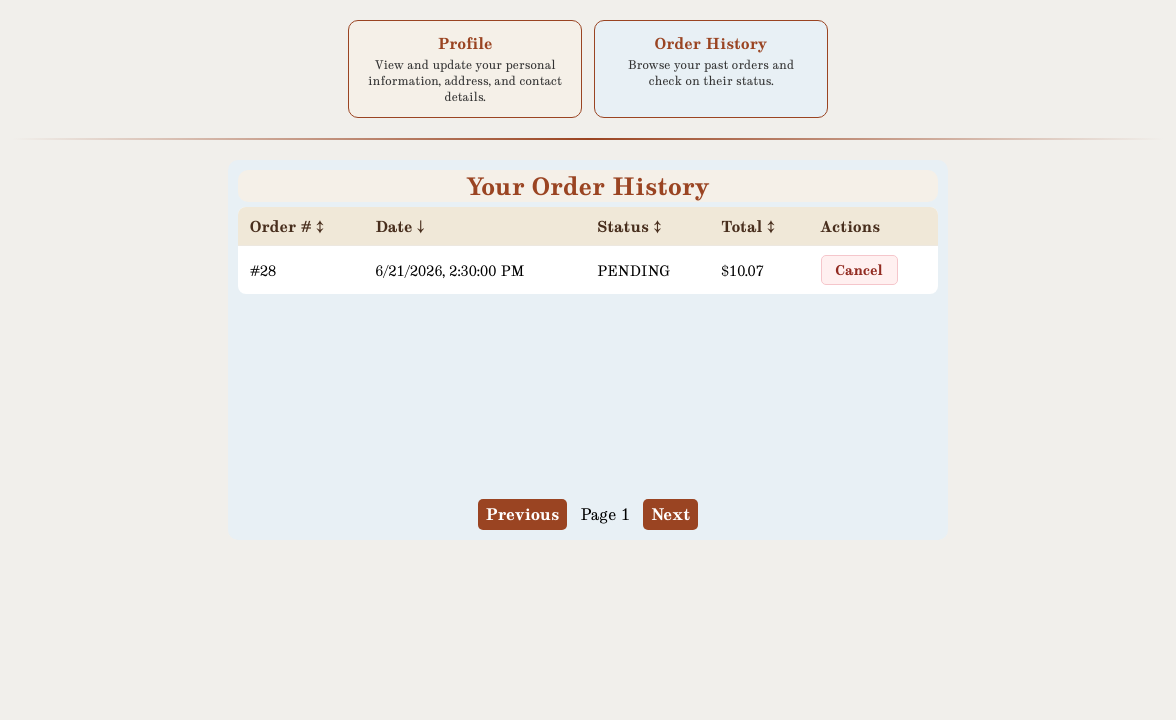
Order History Page › next button loads next page
Click the button "Next" at (671, 514), box [643, 499, 698, 530]
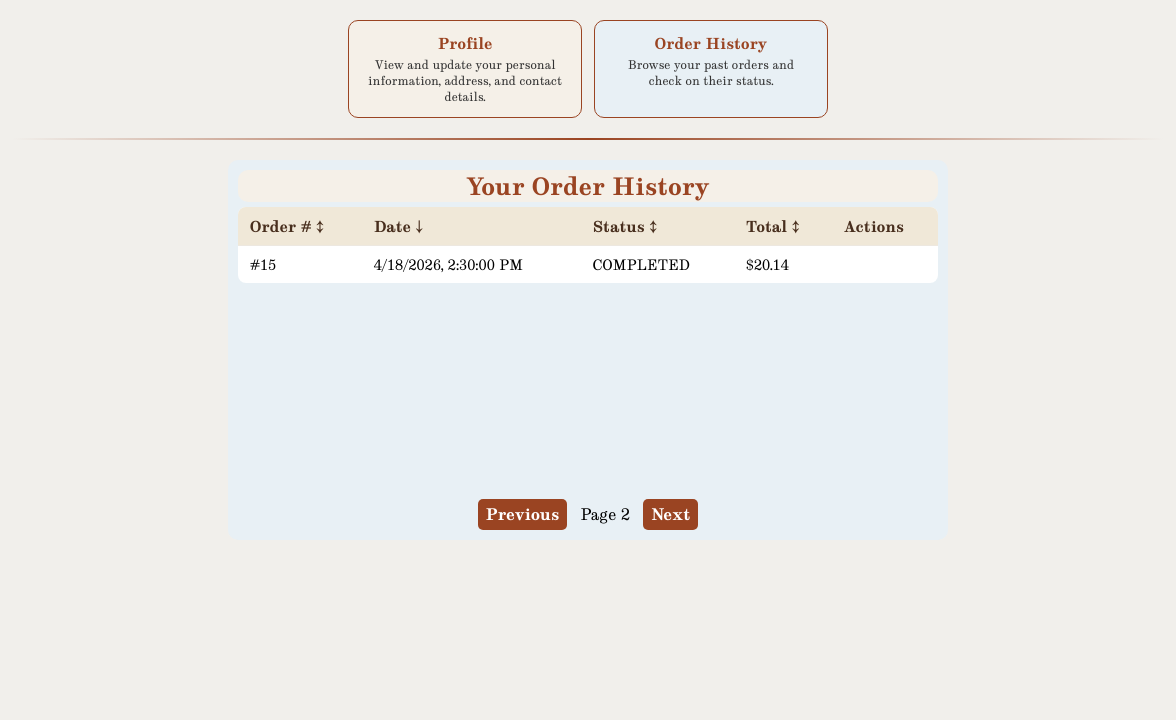
Check: the text "Page 2" is shown, box [580, 504, 630, 525]
